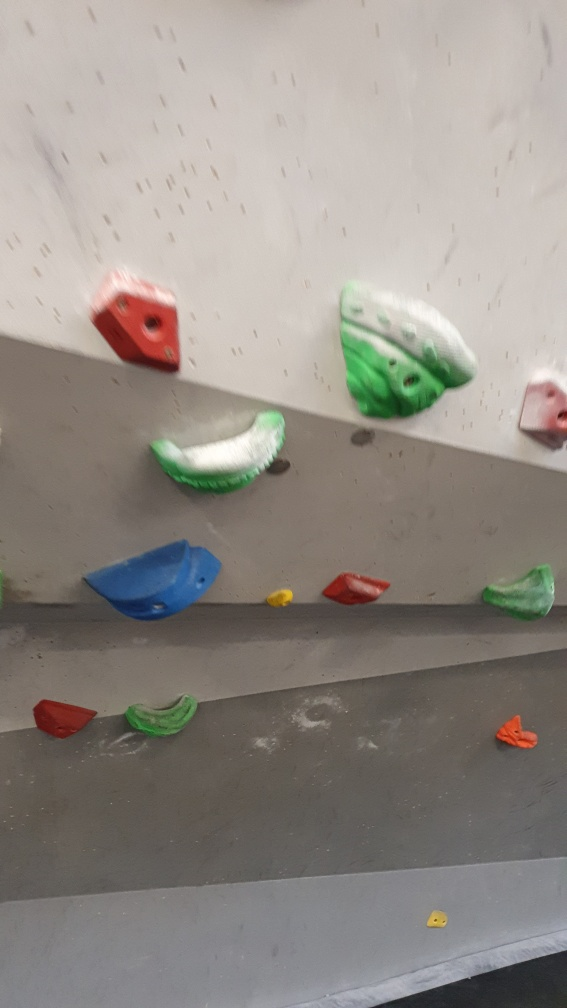Crimp: (87, 269, 182, 374), (324, 569, 390, 609)
Hand Start: (344, 424, 381, 455), (268, 456, 292, 487)
Jug: (337, 276, 480, 432), (151, 409, 290, 496), (483, 561, 557, 623), (123, 690, 206, 744), (492, 710, 542, 752)
Pinch: (85, 540, 225, 619)
